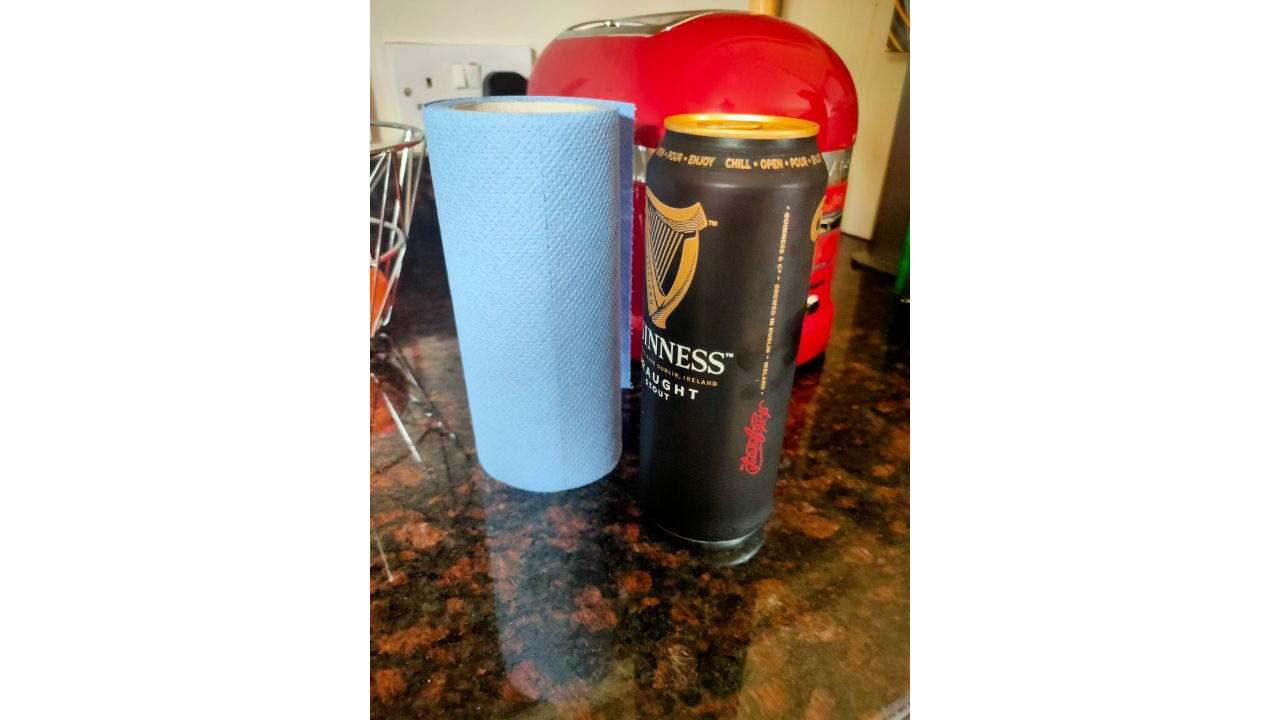Can: (639, 118, 825, 552)
